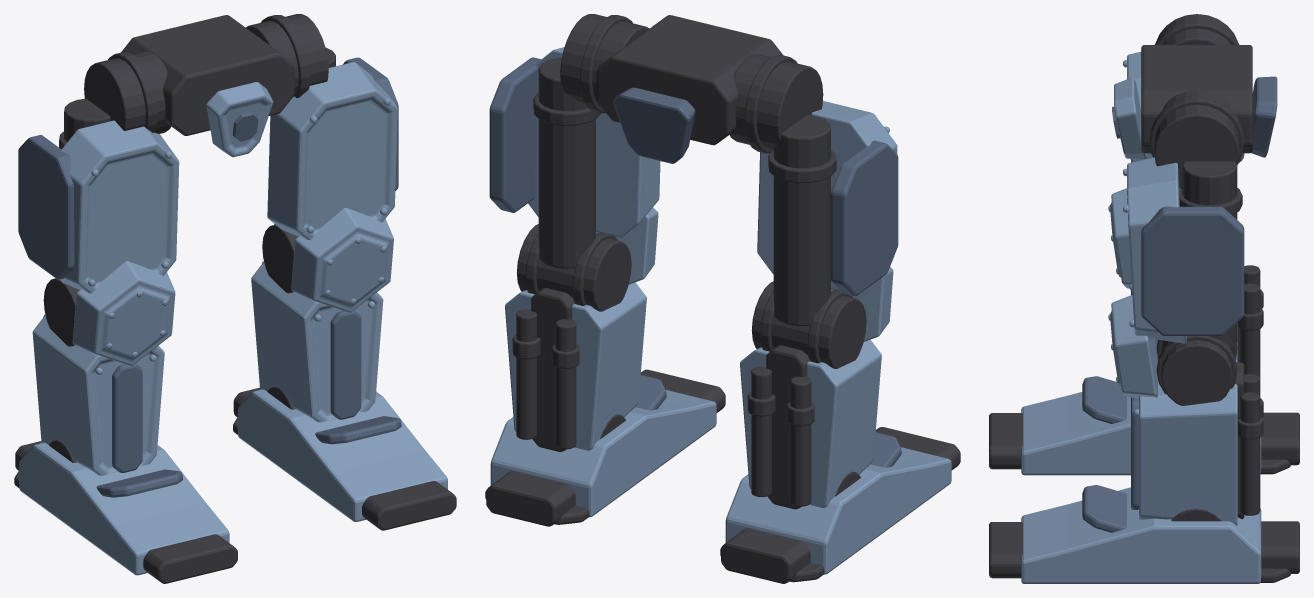
Rendered from recon_accurate_legs.glb.
3 renders of one model, left to right at view 1: azimuth 30°, elevation 25°; view 2: azimuth 150°, elevation 25°; view 3: azimuth 270°, elevation 25°, orthographic. The views are drawn at different scales.
Parts seen in each view (by area): view 1: ThighL, ThighR, FootR, FootL, ShinR, ShinL, Pelvis, KneePadR, KneePadL, ThighSideR, HipJointR, HipJointL (+12 smaller); view 2: Pelvis, FootR, FootL, ThighFrameR, ThighFrameL, ShinL, ShinR, ThighSideR, HipJointR, ThighL, ThighSideL, KneeJointL (+18 smaller); view 3: FootL, ThighSideL, ShinL, FootR, Pelvis, HipJointL, KneeJointL, ThighL, KneePadL, ThighFrameL, CalfL, HipJointR (+14 smaller).
Boxes of the visible parts, x1,y1,x2,y2 form: ThighL: (267, 62, 397, 239); ThighR: (59, 120, 179, 293); FootR: (19, 442, 229, 575); FootL: (238, 389, 447, 521); ShinR: (32, 315, 164, 475); ShinL: (251, 262, 383, 422); Pelvis: (121, 15, 294, 135); KneePadR: (72, 261, 175, 365); KneePadL: (291, 208, 393, 312); ThighSideR: (18, 135, 74, 279); HipJointR: (84, 51, 171, 133); HipJointL: (246, 14, 328, 97); Pelvis: (597, 15, 782, 145); FootR: (725, 447, 951, 574); FootL: (490, 390, 716, 517); ThighFrameR: (768, 115, 836, 325); ThighFrameL: (533, 57, 600, 268); ShinL: (505, 282, 646, 450); ShinR: (740, 339, 881, 507); ThighSideR: (831, 140, 898, 296); HipJointR: (729, 54, 823, 153); ThighL: (528, 47, 660, 237); ThighSideL: (489, 57, 540, 212); KneeJointL: (517, 224, 631, 311); FootL: (1021, 487, 1261, 583); ThighSideL: (1141, 206, 1244, 335); ShinL: (1134, 360, 1237, 525); FootR: (1021, 392, 1261, 475); Pelvis: (1141, 45, 1252, 153); HipJointL: (1150, 90, 1244, 188); KneeJointL: (1156, 336, 1237, 405); ThighL: (1123, 157, 1186, 343); KneePadL: (1108, 295, 1157, 398); ThighFrameL: (1179, 161, 1242, 349); CalfL: (1237, 392, 1263, 515); HipJointR: (1155, 14, 1239, 44).
Bounding box in the file's own units: 4.56 × 5.75 × 3.63.
